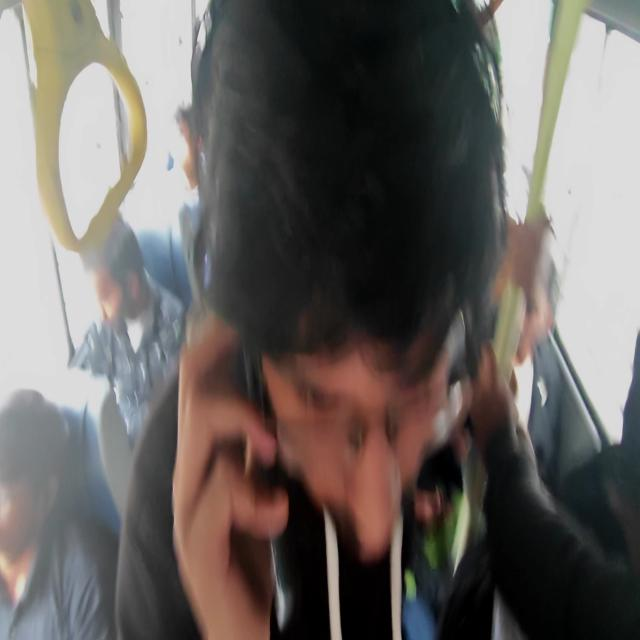person: (201, 14, 474, 520), (0, 414, 69, 584), (75, 238, 152, 350), (507, 266, 561, 368), (162, 96, 197, 182)
